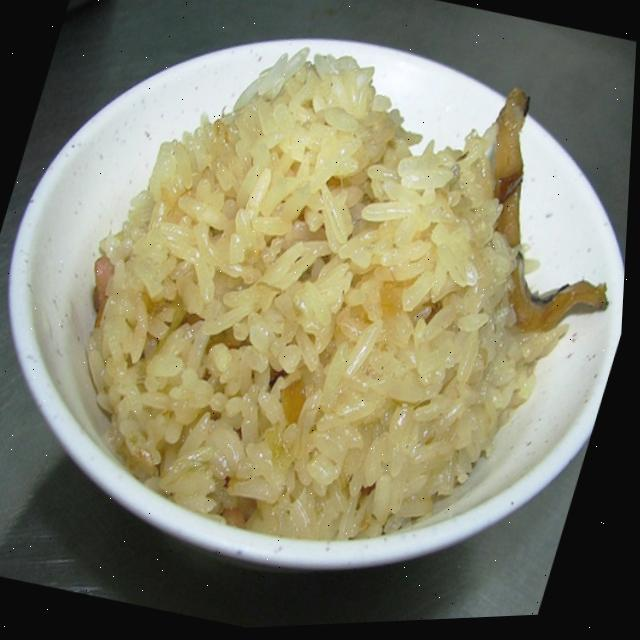米饭主食: (25, 0, 638, 578)
